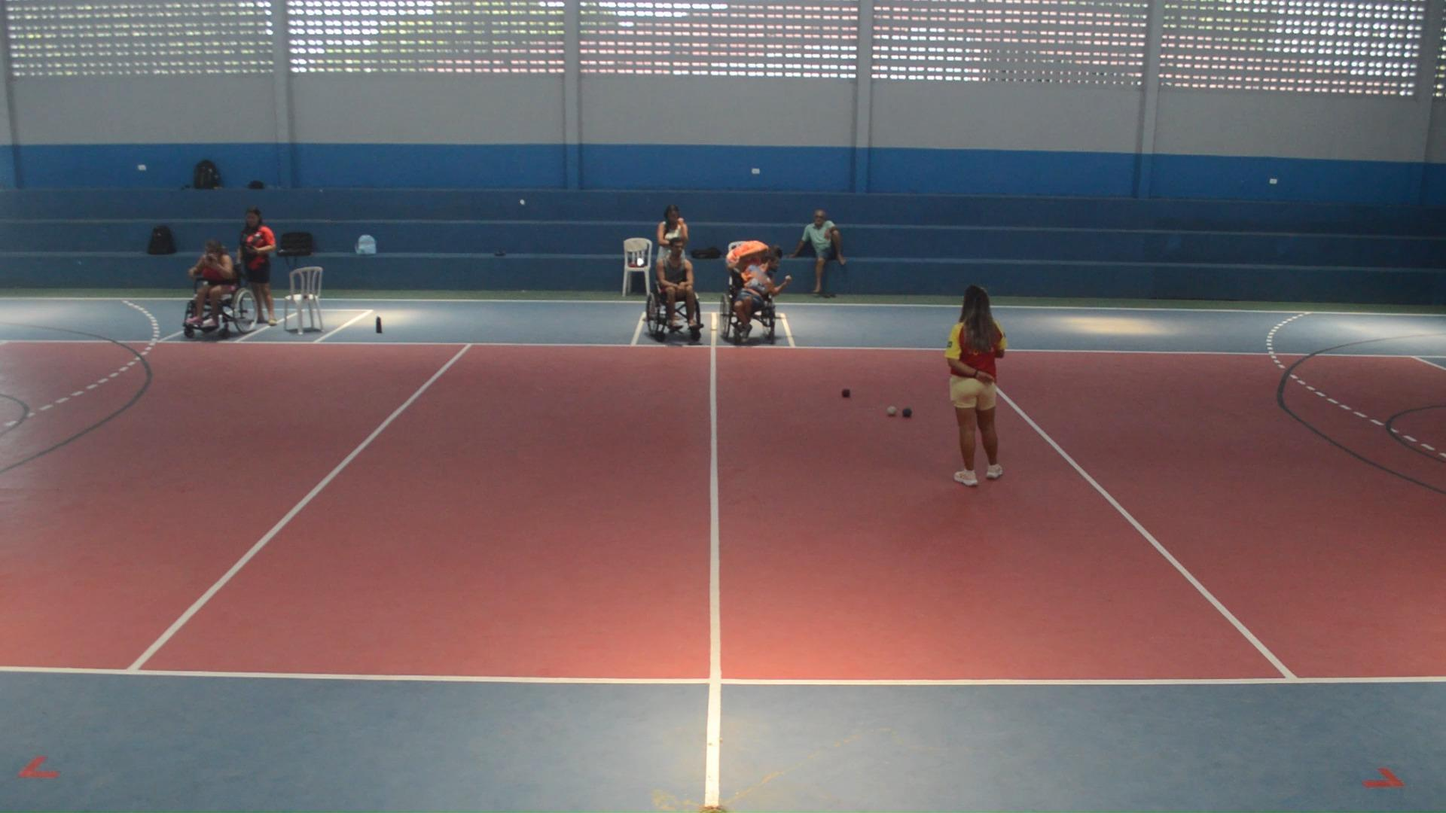blue_ball: (901, 407, 912, 419)
red_ball: (840, 387, 851, 398)
white_ball: (886, 405, 898, 417)
